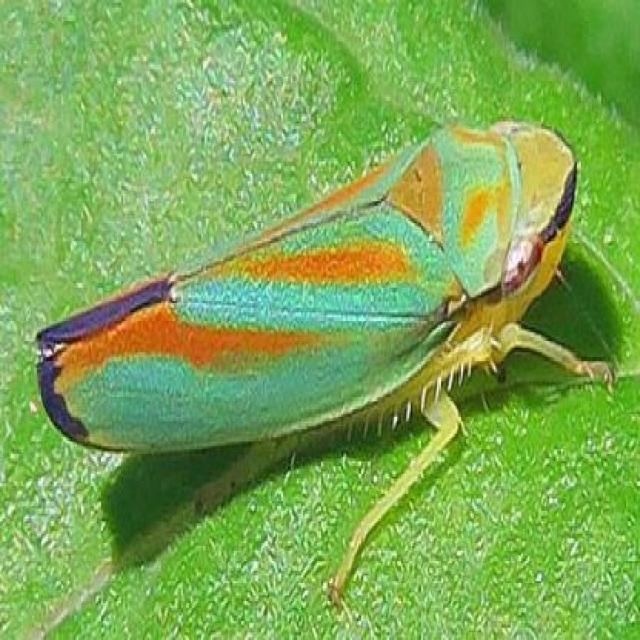green-leafhopper: (35, 114, 619, 600)
